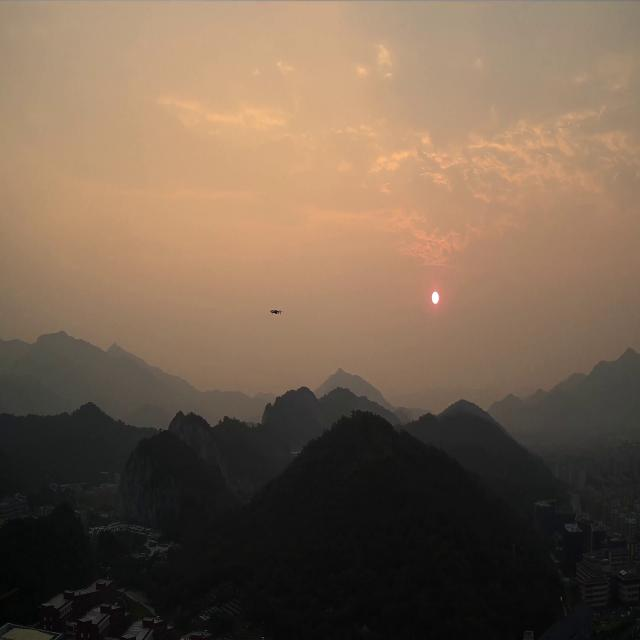UAV: (270, 308, 284, 315)
